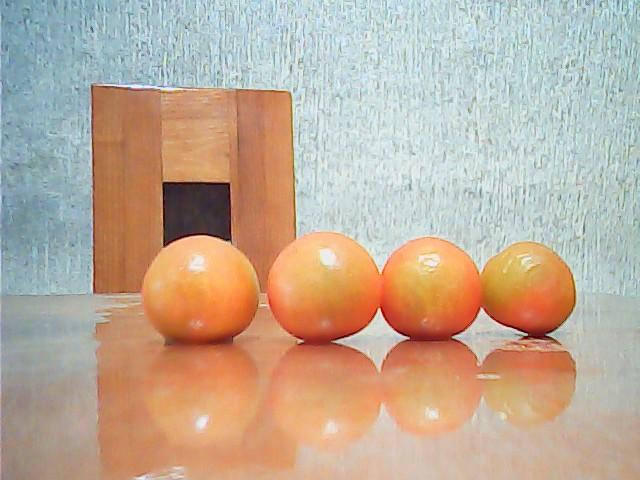verde: (141, 237, 262, 345), (270, 230, 383, 343), (385, 236, 482, 340), (485, 240, 576, 333)
